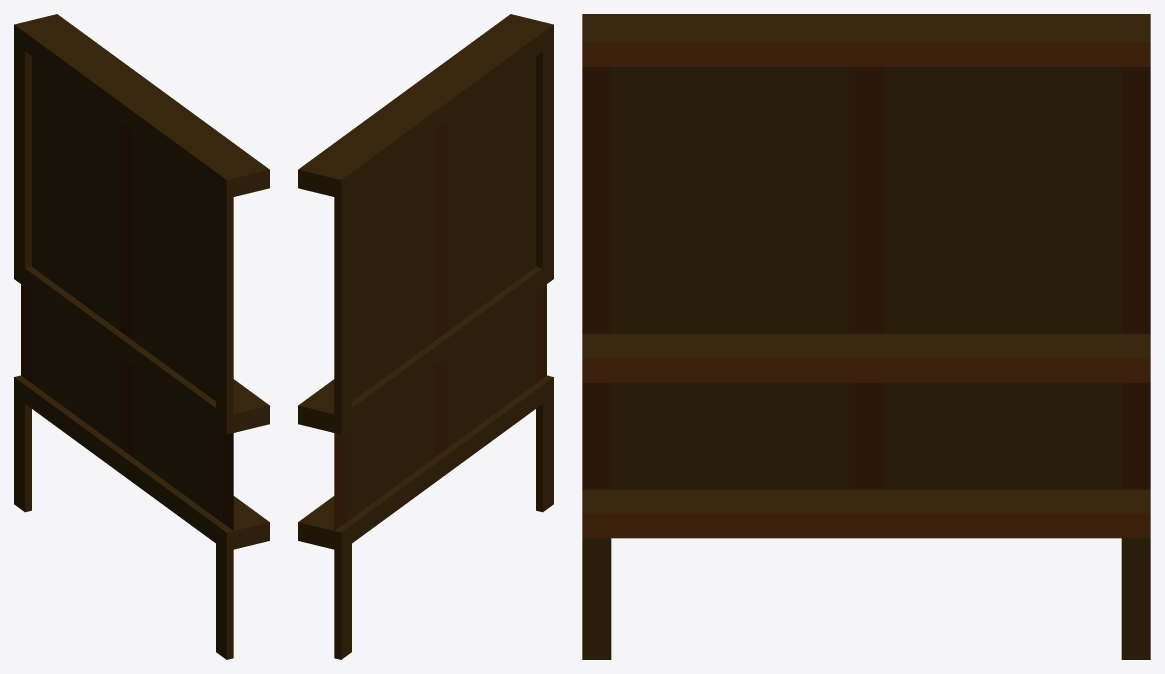
The model's file is Comoda.fbx.
The picture shows the model from 3 angles, left to right: view 1: azimuth 30°, elevation 25°; view 2: azimuth 150°, elevation 25°; view 3: azimuth 270°, elevation 25°; orthographic projection. The views are drawn at different scales.
Parts seen in each view (by area): view 1: Desk.001; view 2: Desk.001; view 3: Desk.001.
Part boxes in pixels (x1,y1,x2,y2): Desk.001: (14, 14, 269, 659); Desk.001: (298, 14, 553, 659); Desk.001: (582, 14, 1150, 659).
Bounding box in the file's own units: 282 × 2995 × 2404.
